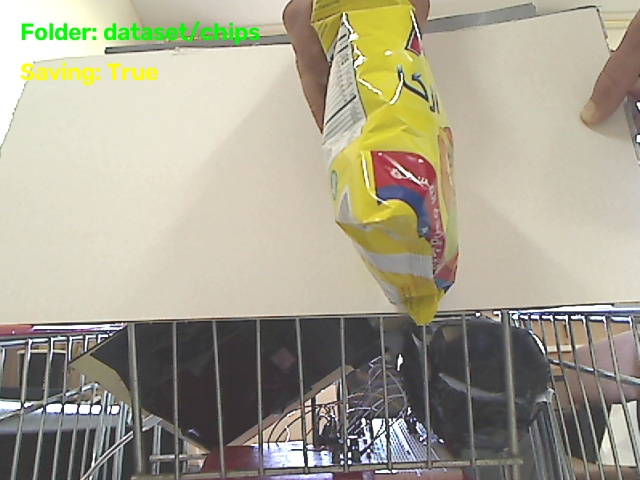chips: (312, 0, 457, 323)
